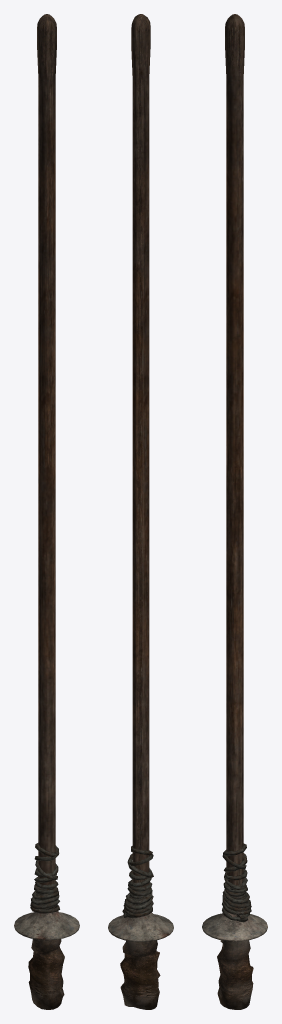
The model's file is le_pd_torchpole.glb.
3 renders of one model, left to right at view 1: azimuth 90°, elevation 25°; view 2: azimuth 150°, elevation 25°; view 3: azimuth 270°, elevation 25°, orthographic.
Visible parts, largest first — view 1: Torchpole; view 2: Torchpole; view 3: Torchpole.
Boxes of the visible parts, box(x1,y1,x2,y2) form: Torchpole: box(14, 14, 79, 1009); Torchpole: box(108, 14, 173, 1009); Torchpole: box(202, 14, 267, 1009).
Bounding box in the file's own units: 9.88 × 164 × 9.88.
Materials: 1 (1 with a texture image).
